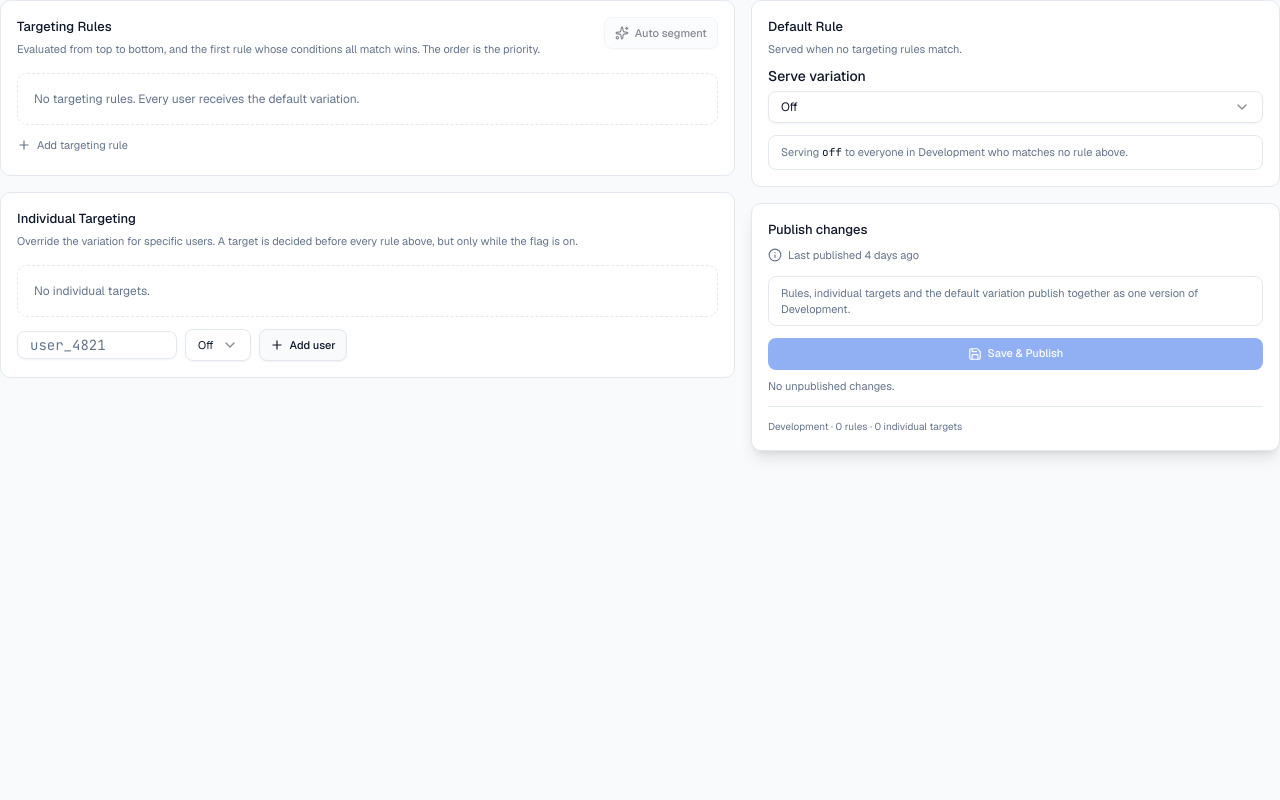
Test case: the rule actions › adds a rule and opens it
Click the button "Add targeting rule" at (72, 145), box [17,137,128,154]
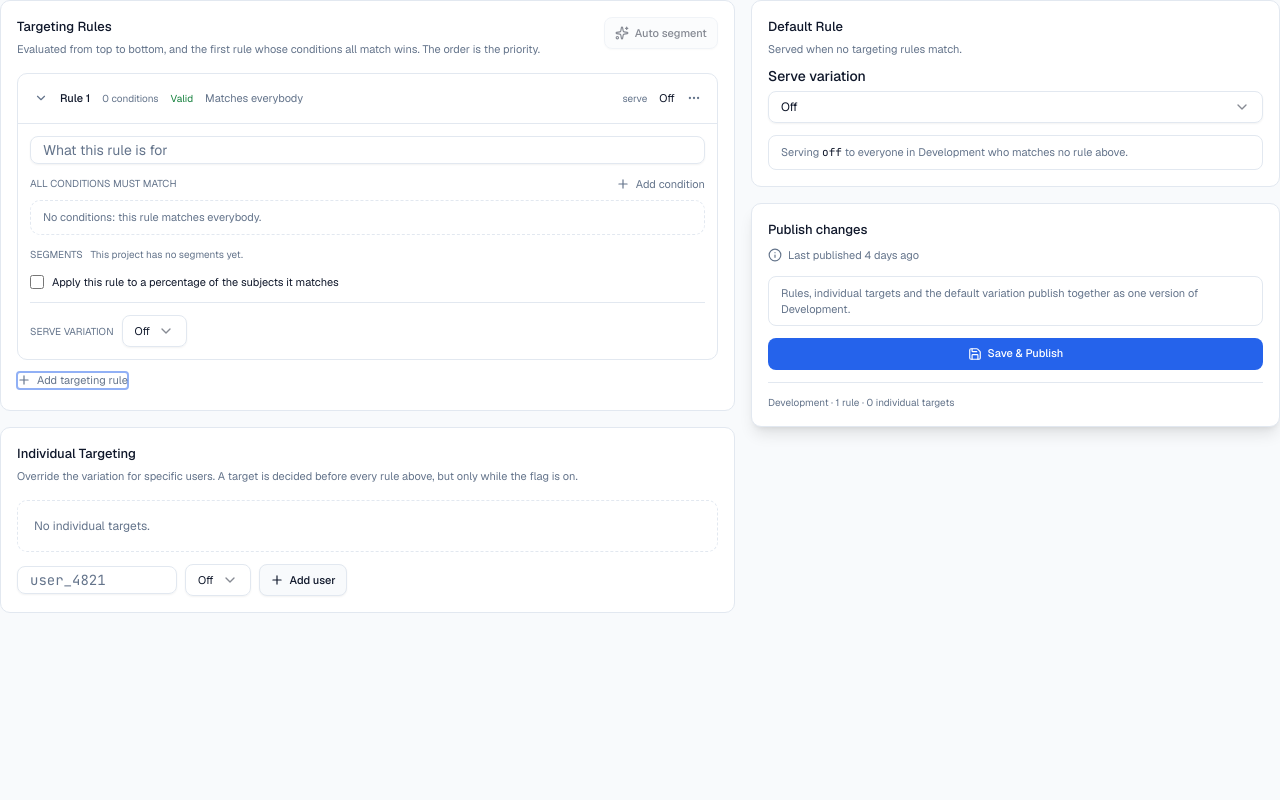
Expected: the text "Rule 1" is shown, [60,90,90,106]
Expected: the field named "Description for rule 1" is shown, [30,136,705,164]
